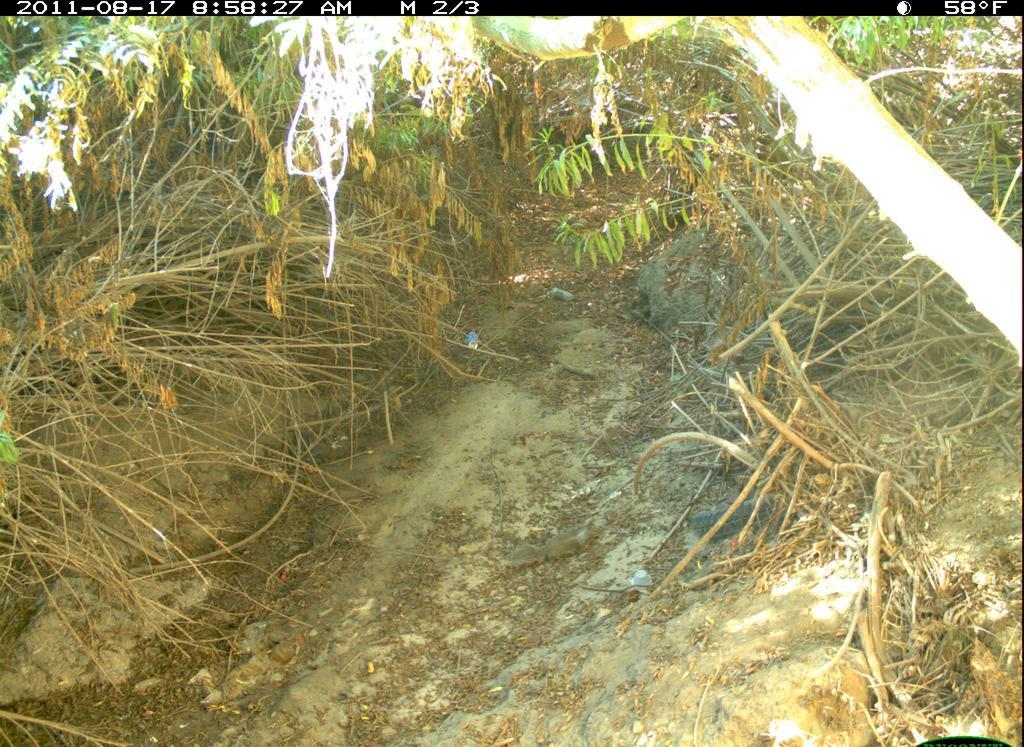squirrel: (504, 505, 606, 577)
